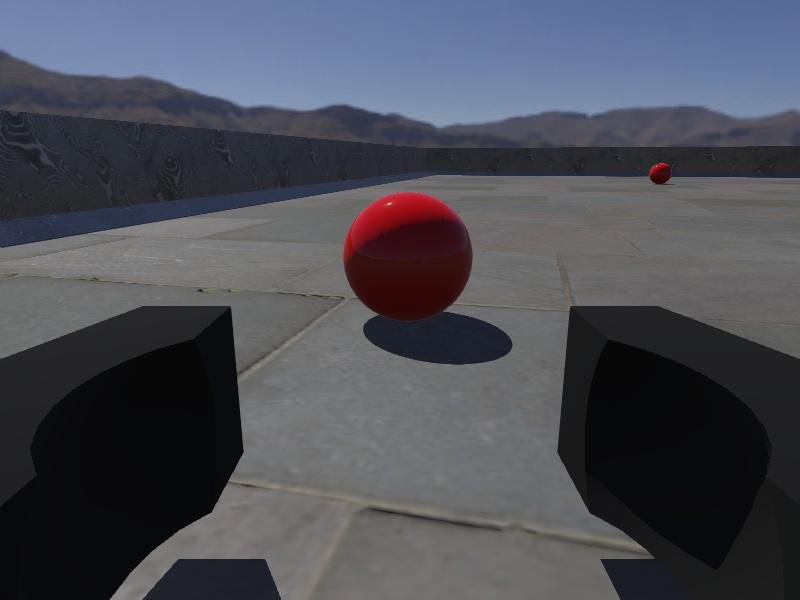red ball: (342, 190, 475, 324), (648, 162, 673, 185)
